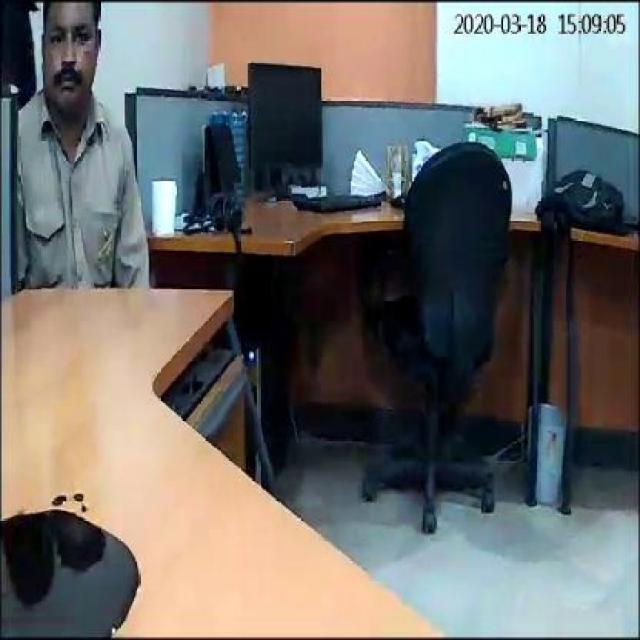spill: (1, 506, 138, 640)
